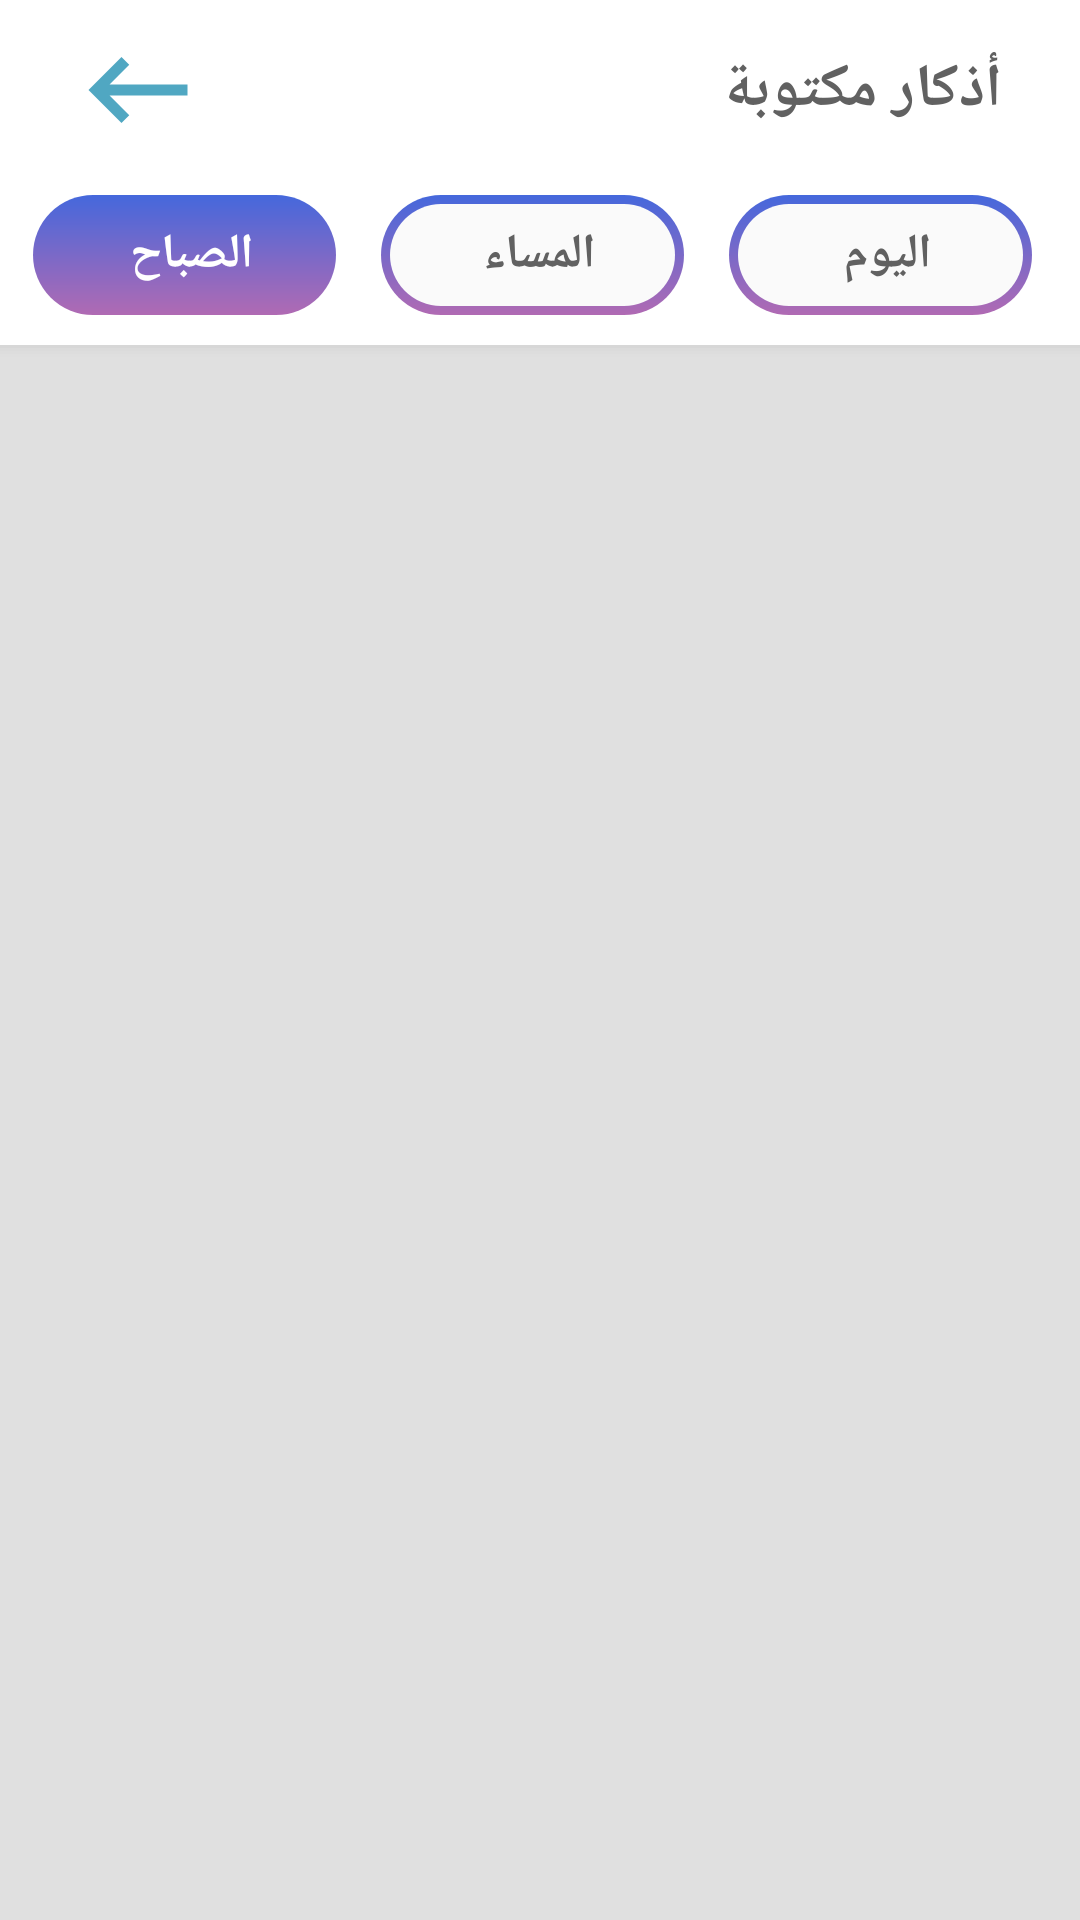

Where to tap for icons on this 1080px×1920px app screen, as (x=x, y=y):
to back: (x=138, y=90)
